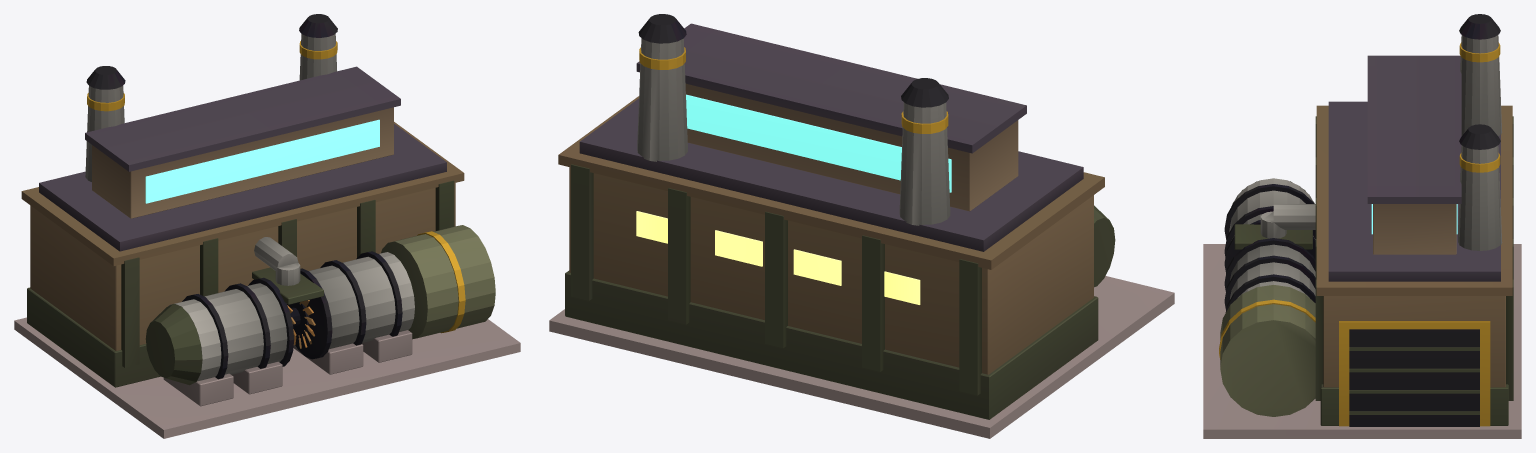
Rendered from kit.dispersal-turbine-hall.glb.
The picture shows the model from 3 angles, left to right: view 1: azimuth 30°, elevation 25°; view 2: azimuth 150°, elevation 25°; view 3: azimuth 270°, elevation 25°; orthographic projection. The views are drawn at different scales.
Parts seen in each view (by area): view 1: body, object 1; view 2: body; view 3: body.
Boxes of the visible parts, x1,y1,x2,y2 form: body: (14, 14, 520, 438); object 1: (287, 300, 315, 348); body: (549, 14, 1174, 438); body: (1203, 14, 1521, 438).
Size of the model in its own units: 16.8 by 11.5 by 12.2.
